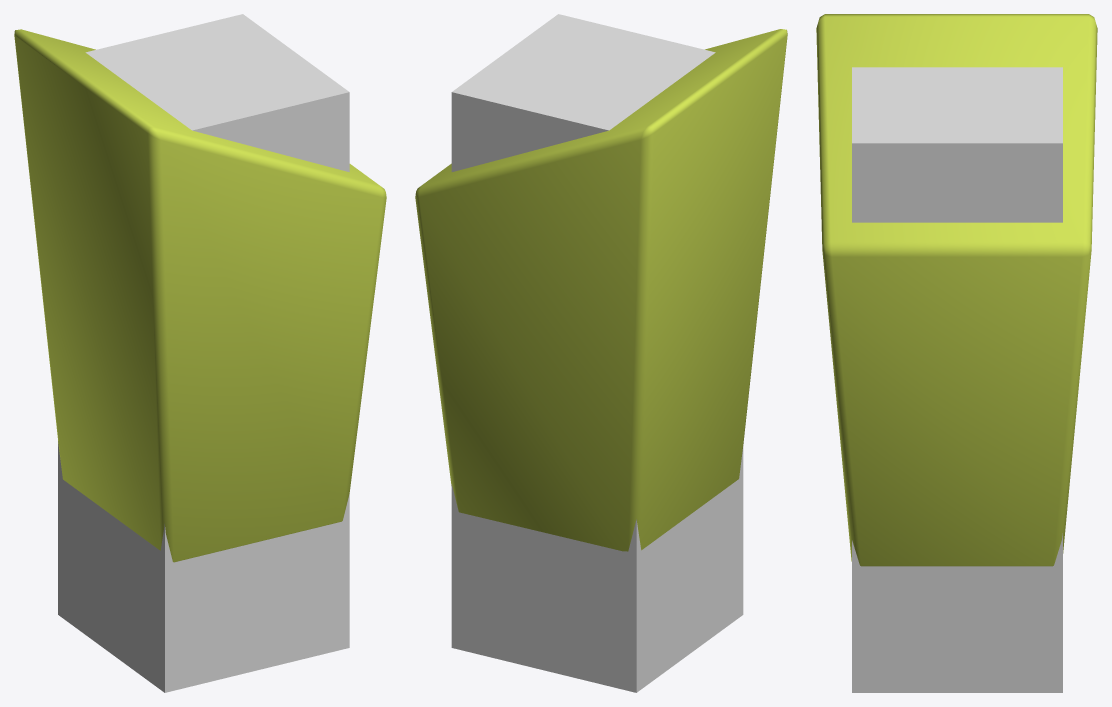
3 renders of one model, left to right at view 1: azimuth 30°, elevation 25°; view 2: azimuth 150°, elevation 25°; view 3: azimuth 270°, elevation 25°, orthographic.
Parts seen in each view (by area): view 1: shadeGreen.024, Cube.131; view 2: shadeGreen.024, Cube.131; view 3: shadeGreen.024, Cube.131.
Boxes of the visible parts, left/top/right/bottom form: shadeGreen.024: left=14, top=29, right=386, bottom=562; Cube.131: left=58, top=14, right=349, bottom=692; shadeGreen.024: left=415, top=29, right=787, bottom=551; Cube.131: left=451, top=14, right=743, bottom=692; shadeGreen.024: left=816, top=14, right=1097, bottom=566; Cube.131: left=852, top=67, right=1062, bottom=692.
Bounding box in the file's own units: 138 × 318 × 141.
